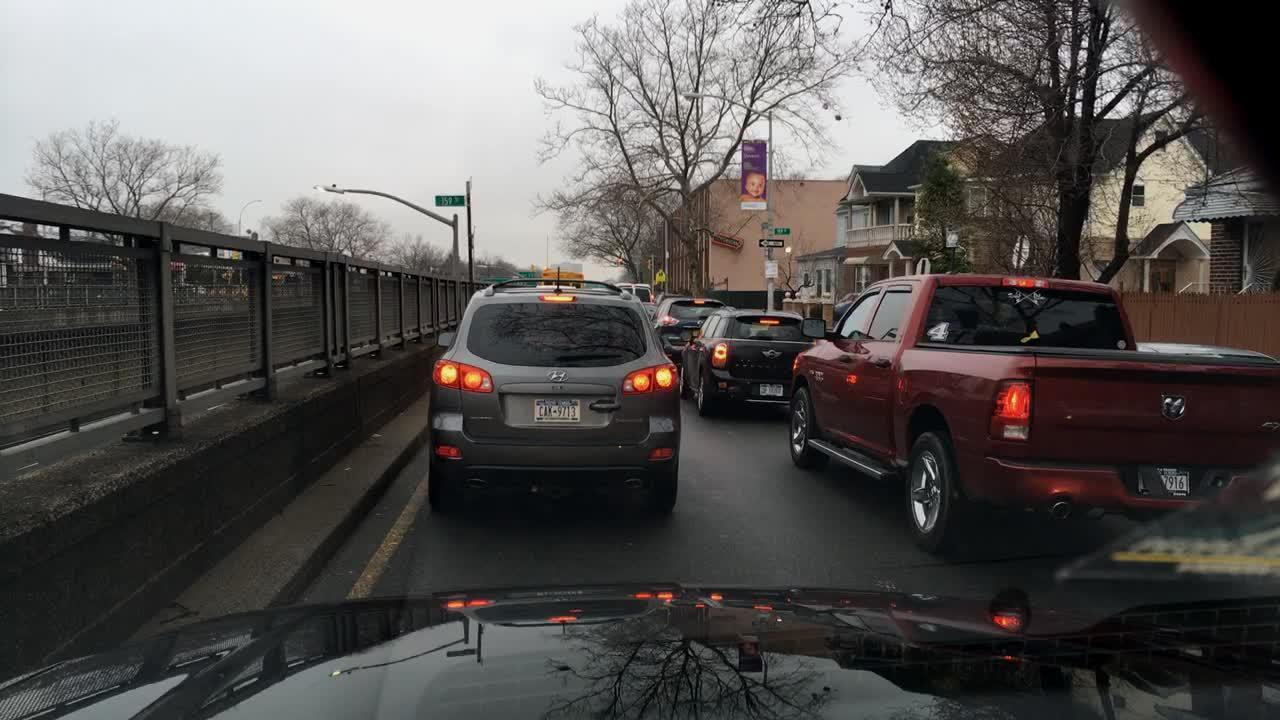Hyundai: (544, 362, 573, 385)
ram: (1152, 386, 1202, 428)
